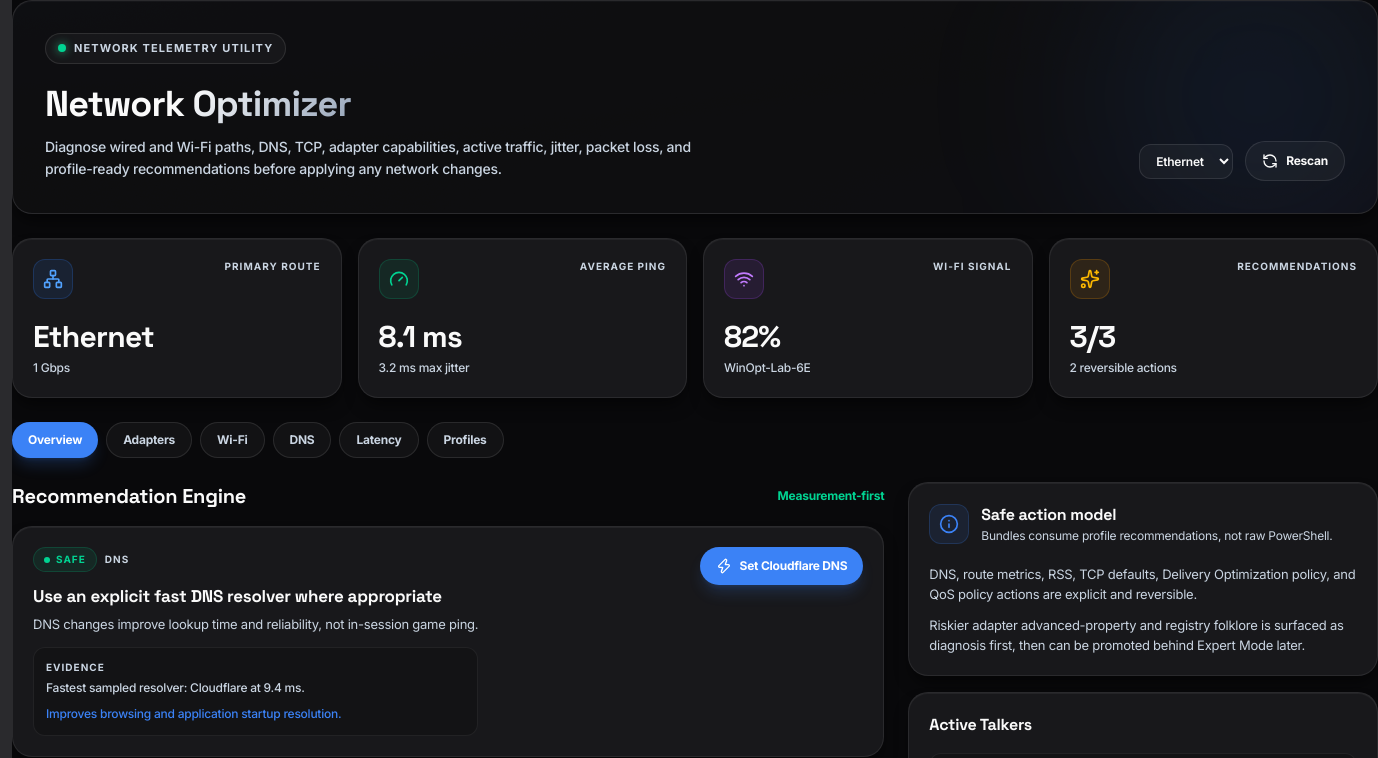
NetworkOptimizerPage › applies an overview recommendation to the selected adapter
This screenshot has width=1378, height=758.
Expected: the heading "Recommendation Engine" is shown, [12,482,246,510]
Click the button "Set Cloudflare DNS".
click(781, 566)  # box [700,547,863,585]
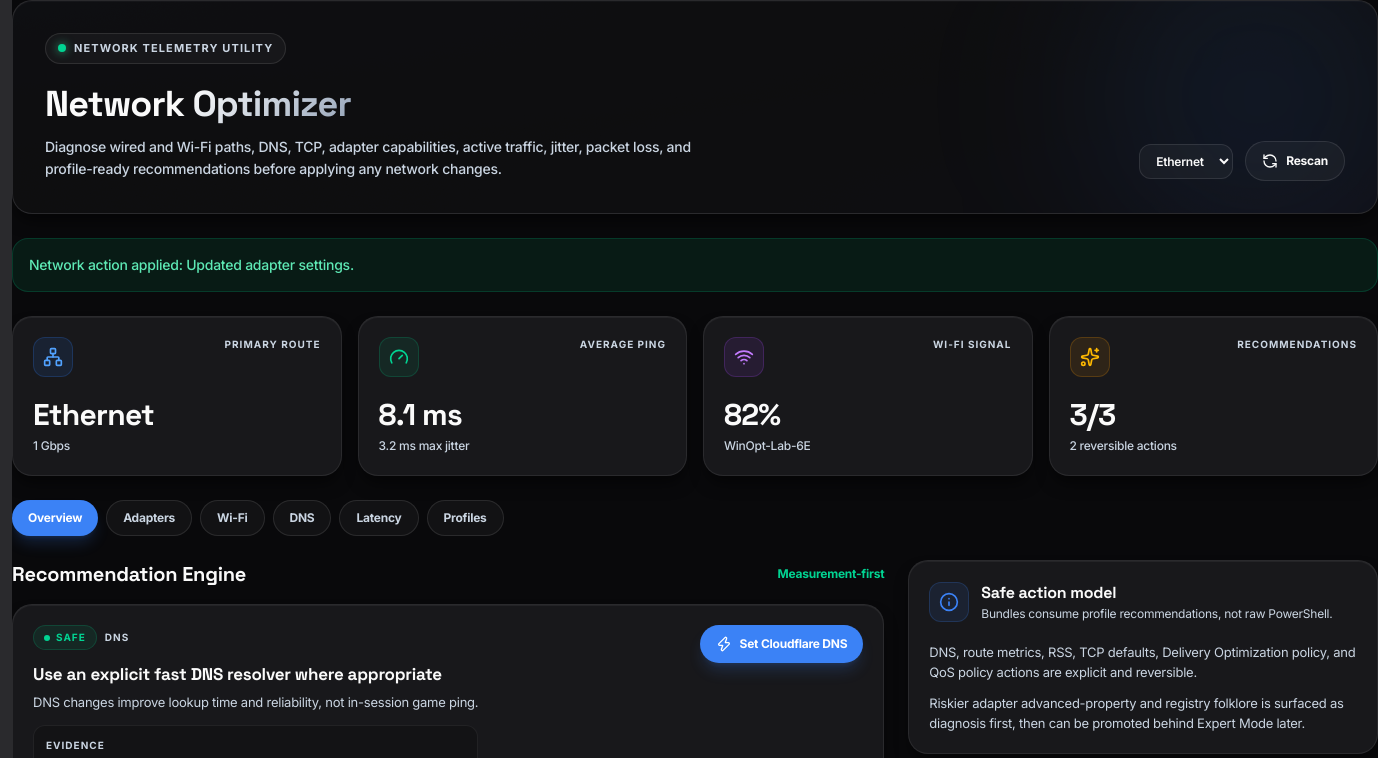
Result: the text "Network action applied: Updated adapter settings." is shown at [12,238,1377,292]
